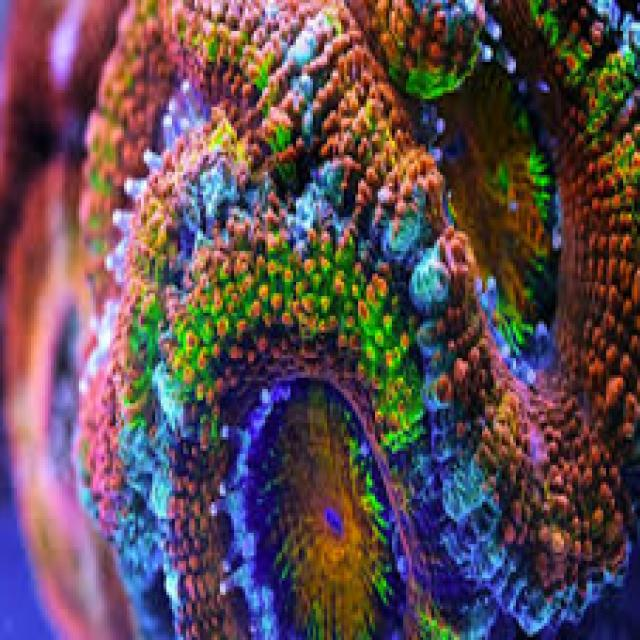Healthy: (69, 1, 638, 635)
